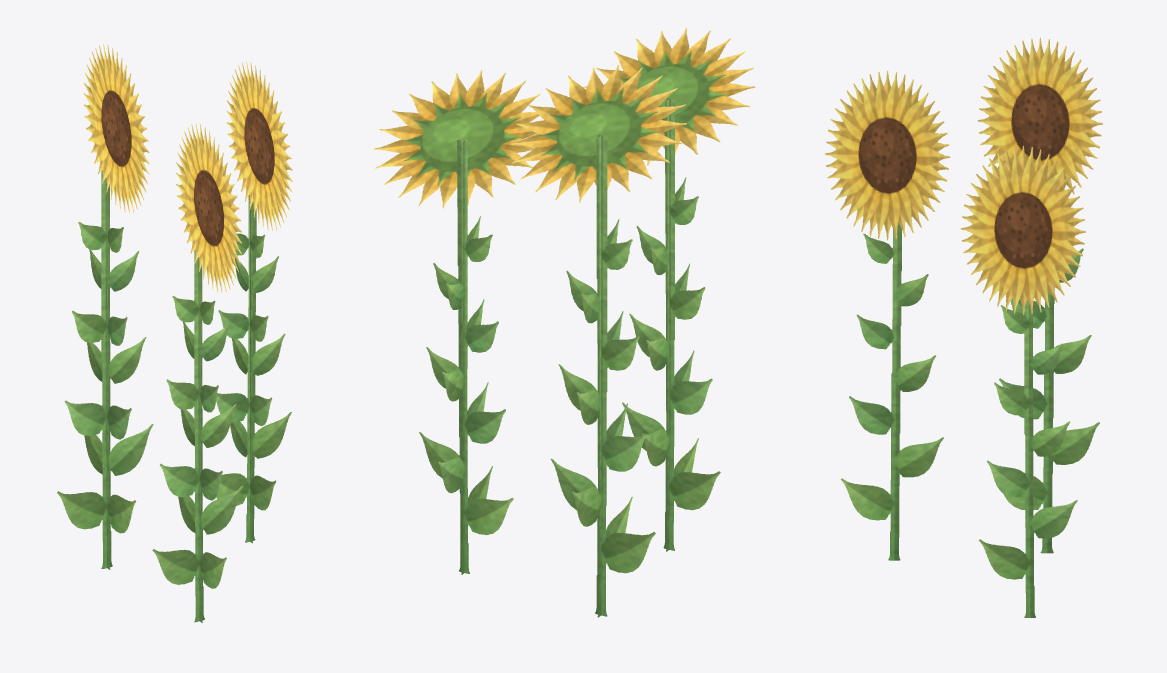
Rendered from crop_sunflower_3.glb.
The picture shows the model from 3 angles, left to right: view 1: azimuth 30°, elevation 25°; view 2: azimuth 150°, elevation 25°; view 3: azimuth 270°, elevation 25°; orthographic projection. The views are drawn at different scales.
Visible parts, largest first — view 1: crop_sunflower_3; view 2: crop_sunflower_3; view 3: crop_sunflower_3.
Part boxes in pixels (x1=…): crop_sunflower_3: x1=57, y1=44, x2=292, y2=622; crop_sunflower_3: x1=374, y1=27, x2=755, y2=617; crop_sunflower_3: x1=825, y1=37, x2=1102, y2=617.
Bounding box in the file's own units: 0.7362 × 1.17 × 0.745.
1 material, 1 textured.
